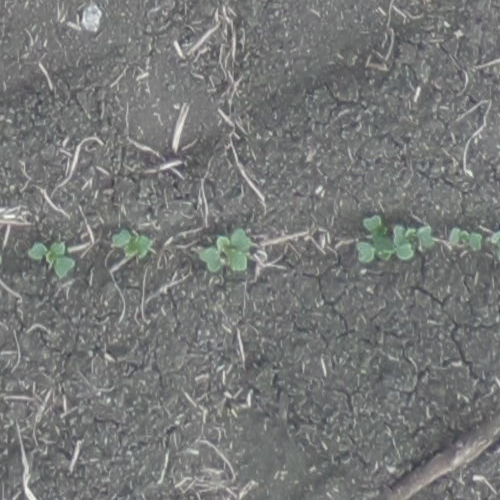clumped: (354, 215, 433, 261)
isolated: (203, 230, 252, 272), (27, 239, 77, 279), (111, 227, 154, 260), (448, 225, 483, 253), (488, 231, 499, 265), (0, 233, 4, 269)
